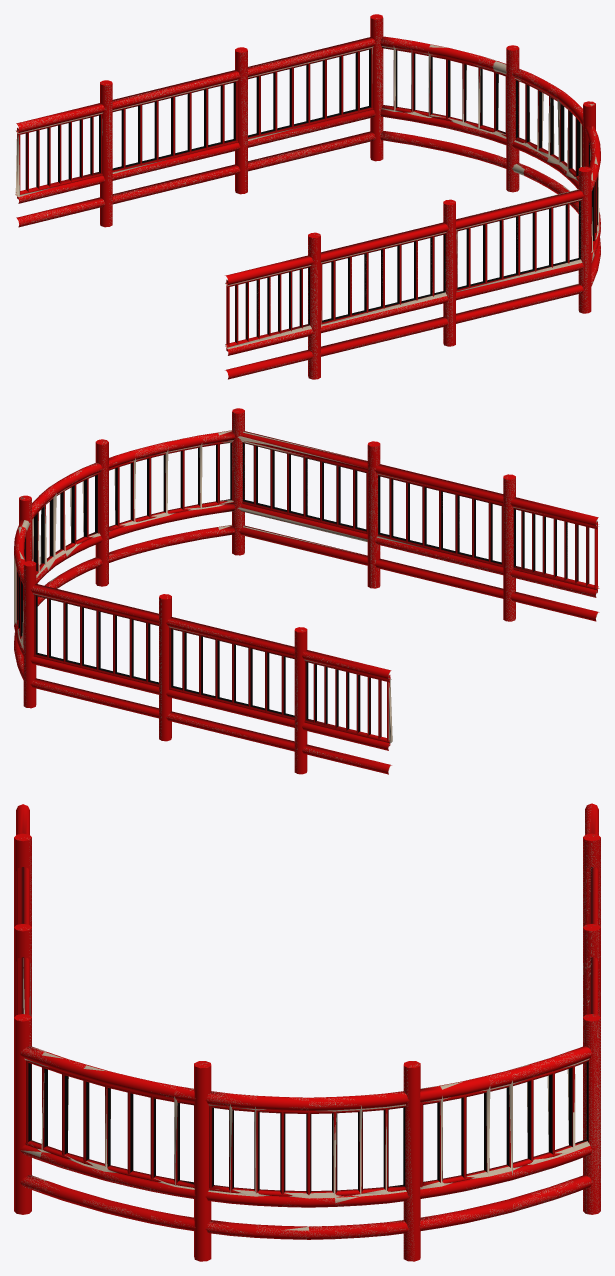
Rendered from KB3D_GAE_Fence_A.glb.
3 views of the same model, one above another, from view 1: azimuth 30°, elevation 25°; view 2: azimuth 150°, elevation 25°; view 3: azimuth 270°, elevation 25° (orthographic). The views are drawn at different scales.
Visible parts, largest first — view 1: L0, L2; view 2: L0, L2; view 3: L0, L2.
Part boxes in pixels (x1,y1,x2,y2): L0: (15,14,600,379); L2: (15,18,600,378); L0: (14,408,599,774); L2: (14,408,598,770); L0: (14,803,600,1261); L2: (18,805,600,1261).
Size of the model in its own units: 4.95 by 1.5 by 4.13.
